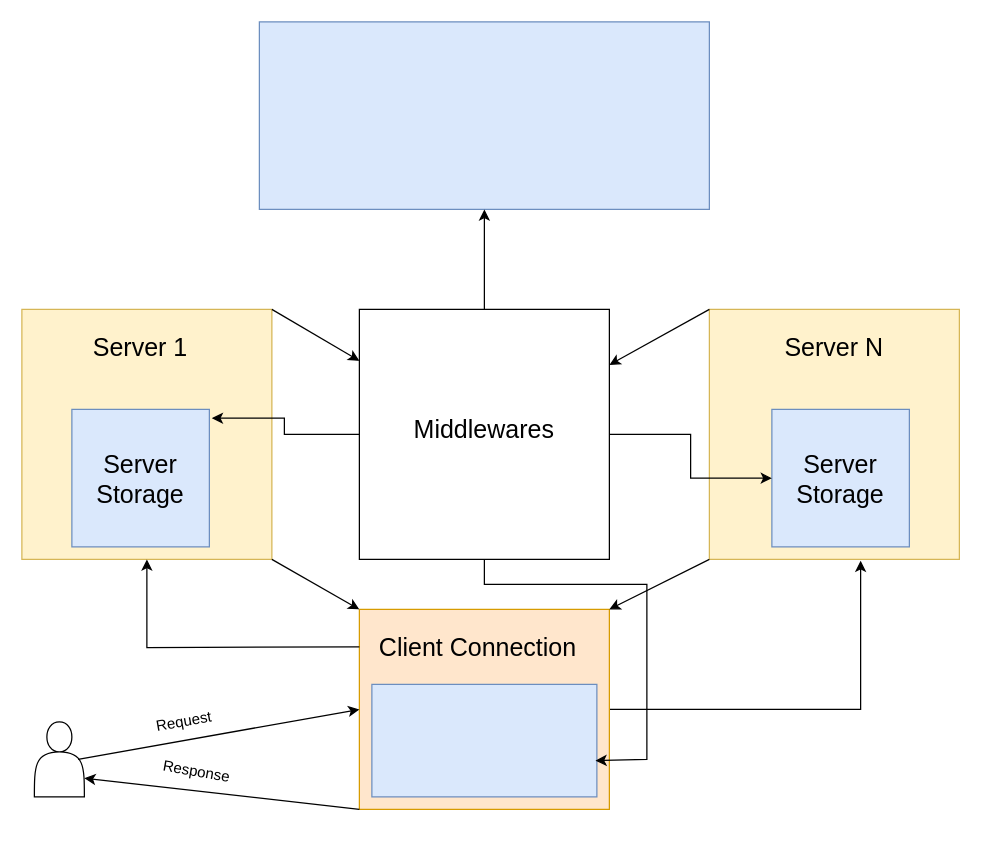
The diagram is 981 pixels wide and 841 high, and some of its shapes have lost their labels. The centre of each missing label's shape, as x and y in pixels:
Global Storage: point (483, 115)
Session Storage: point (484, 740)
